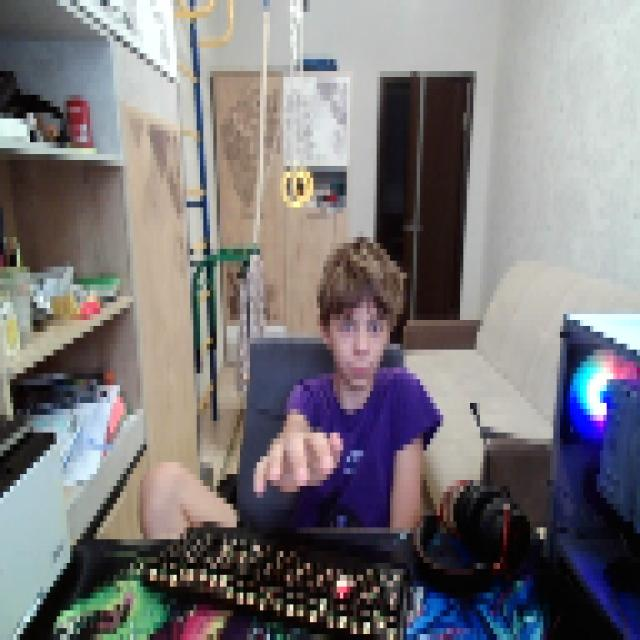hand: (247, 421, 340, 492)
